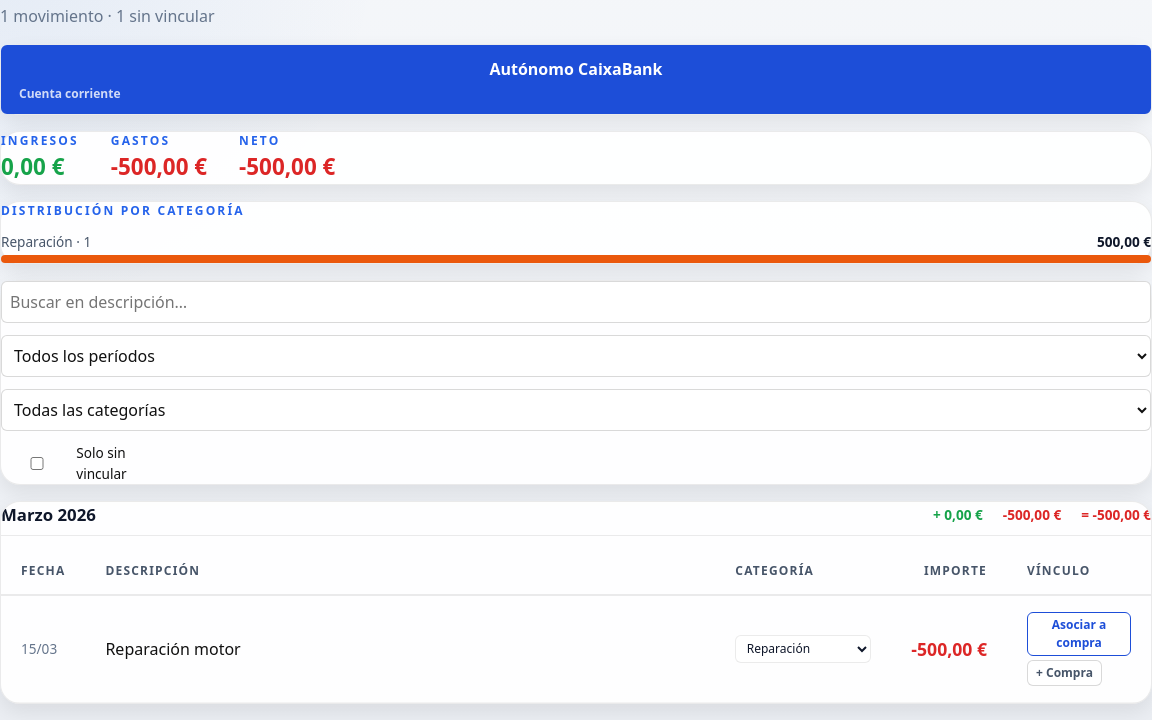
Scenario: BankList › opens create-purchase modal when + Compra is clicked
This screenshot has width=1152, height=720.
(page scrolled)
Click the button with aria-label "Crear compra desde movimiento".
click(1064, 673)  # box x1=1027 y1=660 x2=1102 y2=686
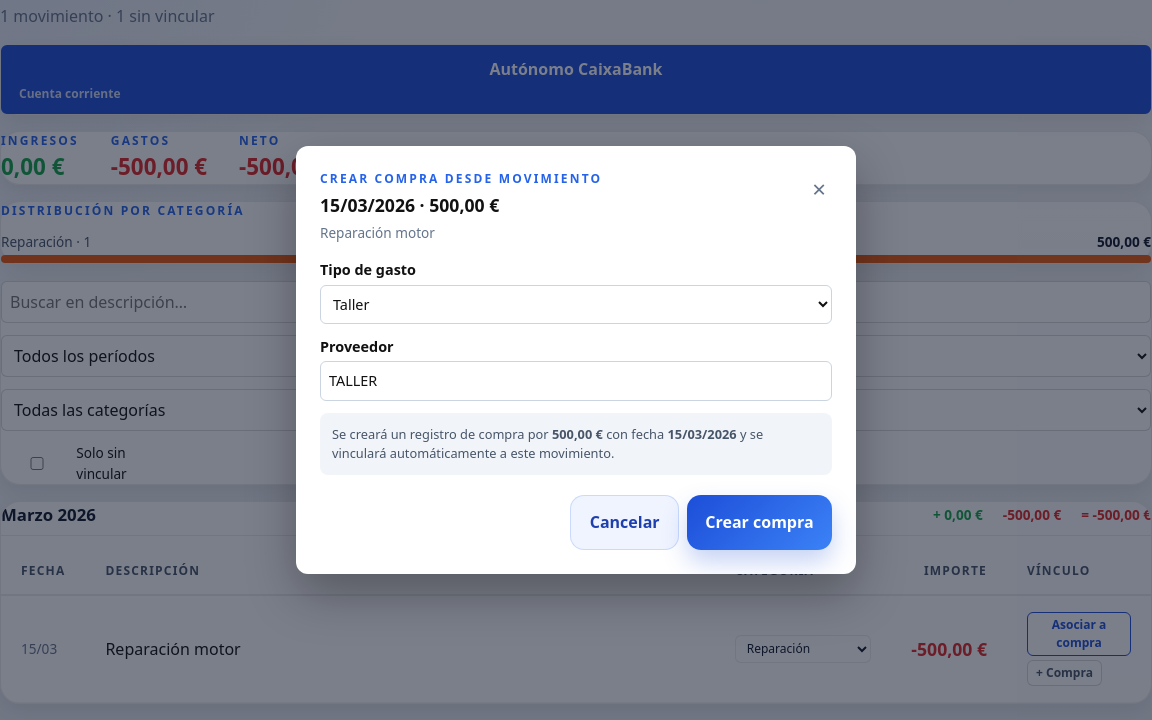
Check: the text "Crear compra desde movimiento" is shown, box x1=320 y1=170 x2=602 y2=188
